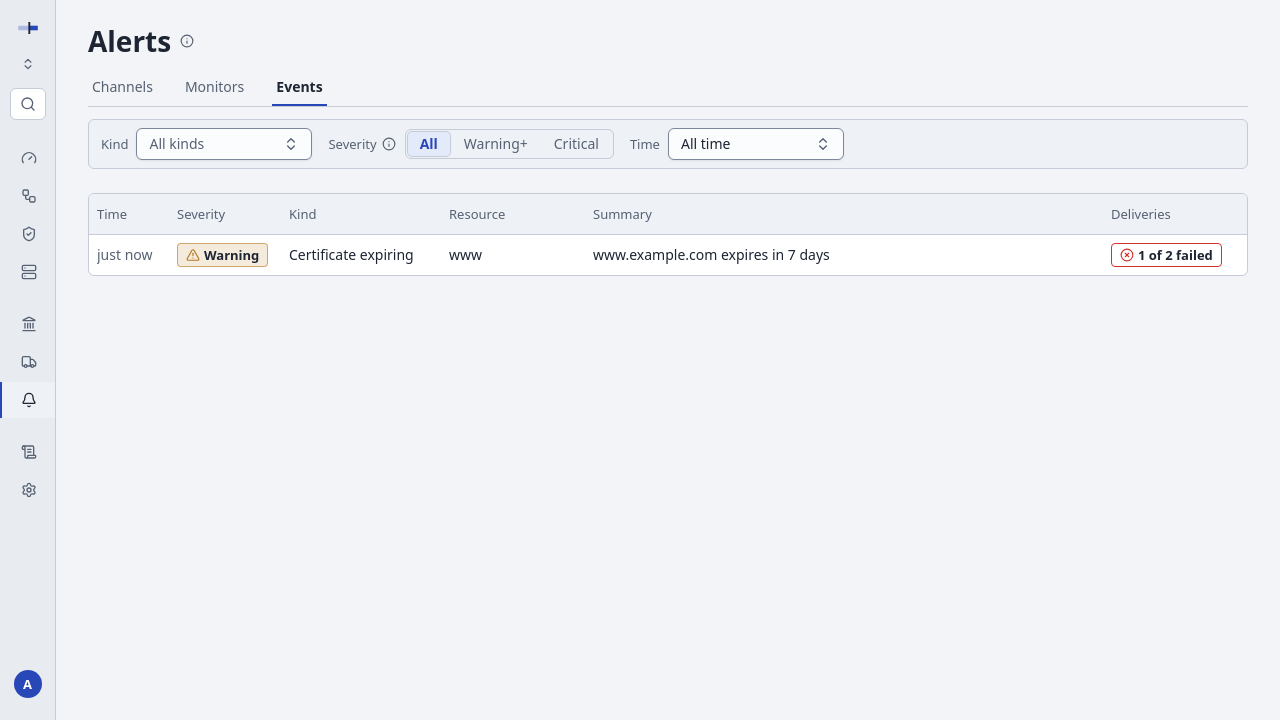
Test case: delivery summary popover lists every channel with attempts and error
The width and height of the screenshot is (1280, 720).
What coordinates should you click on to do the following:
click the button with aria-label "Deliveries: 1 of 2 failed"
I would click on:
 (1166, 254)
Its box is [1111,242,1222,266].
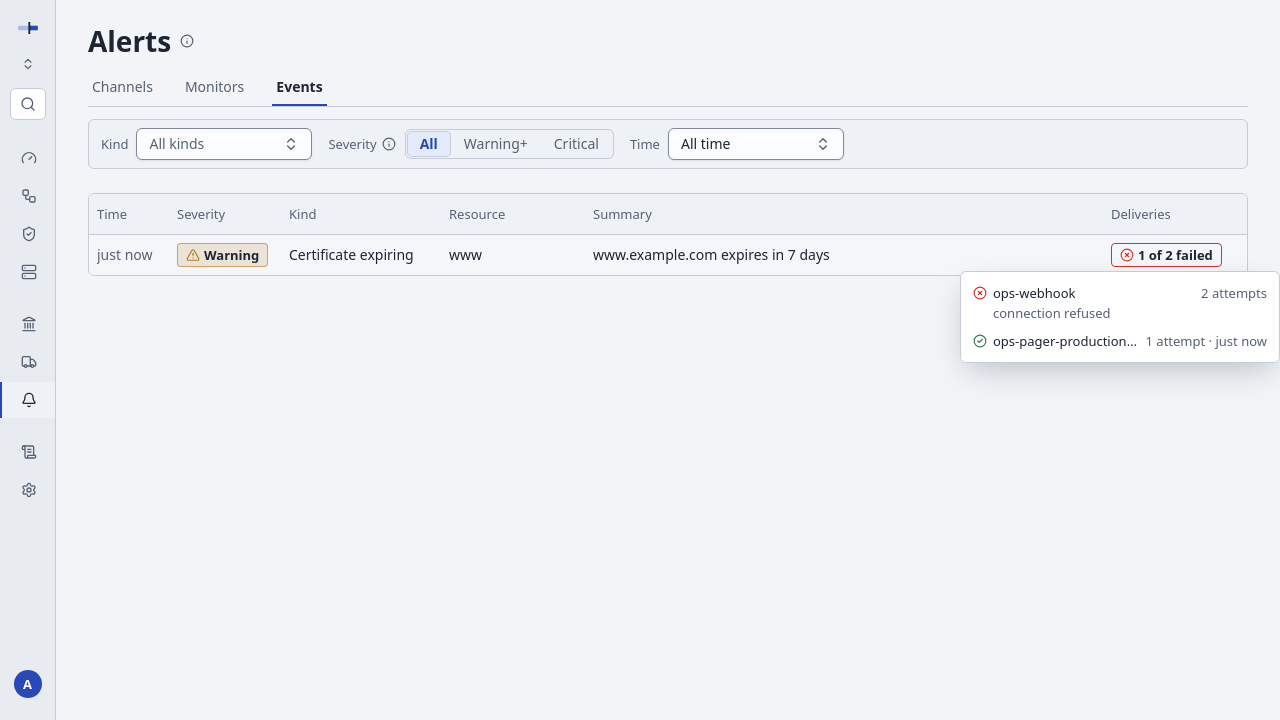
expect the link "ops-pager-production-primary" is shown: met, box [993,332,1140,350]
expect the text "ops-webhook" shows "2 attempts": met, box [1201,284,1267,302]
expect the text "ops-webhook" shows "connection refused": met, box [993,304,1111,322]
